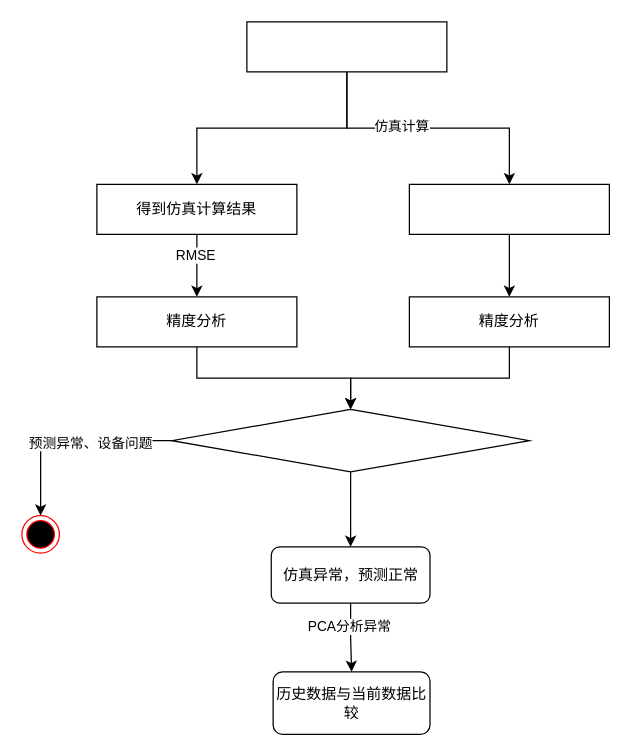
This 631x756 diagram has some shape labels left out. The centre of each missing label's shape, as x and y in pixels:
神经网络预测门站流量: the point at 508,208
精度异常分析: the point at 350,440
采集的流量、压力、温度: the point at 346,46
